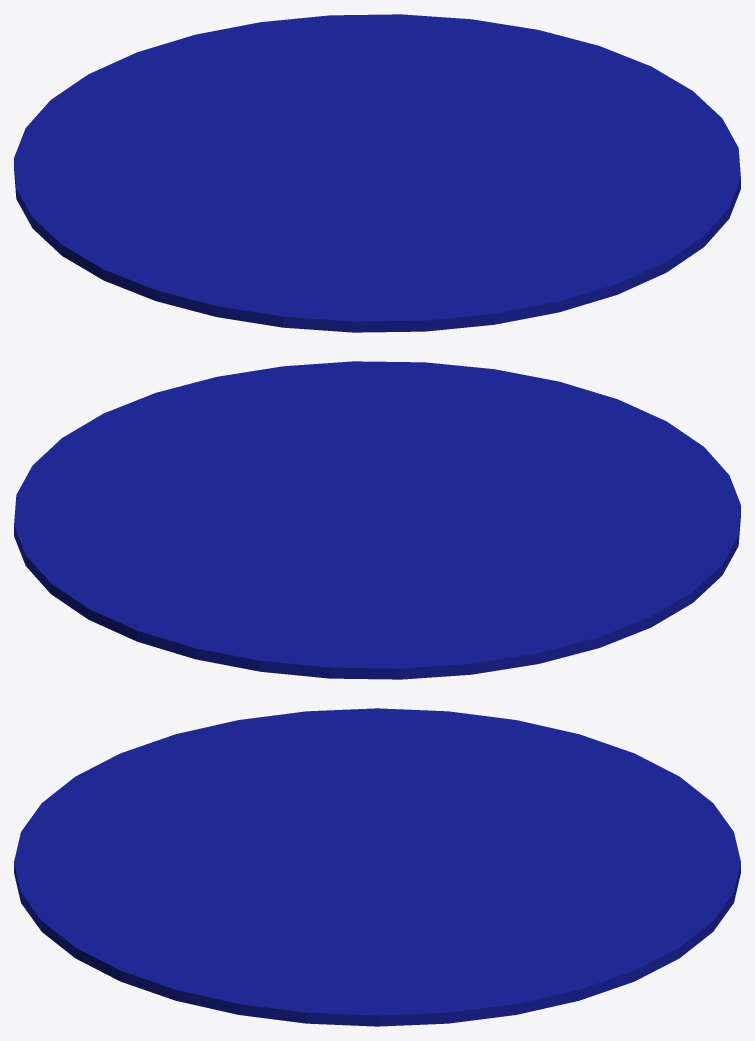
The model's file is board.obj.
3 views of the same model, one above another, from view 1: azimuth 30°, elevation 25°; view 2: azimuth 150°, elevation 25°; view 3: azimuth 270°, elevation 25° (orthographic).
Parts seen in each view (by area): view 1: Cylinder; view 2: Cylinder; view 3: Cylinder.
Boxes of the visible parts, x1,y1,x2,y2 form: Cylinder: (14, 14, 740, 332); Cylinder: (14, 361, 740, 679); Cylinder: (14, 708, 740, 1026).
Size of the model in its own units: 30 by 0.5 by 30.
